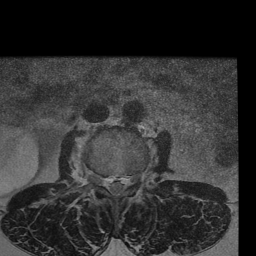CCS_normal: (113, 168, 119, 203)
LFS_normal: (127, 169, 136, 190)
LLS_normal: (120, 169, 127, 197)
RFS_normal: (97, 167, 106, 191)
RLS_normal: (106, 169, 113, 197)
